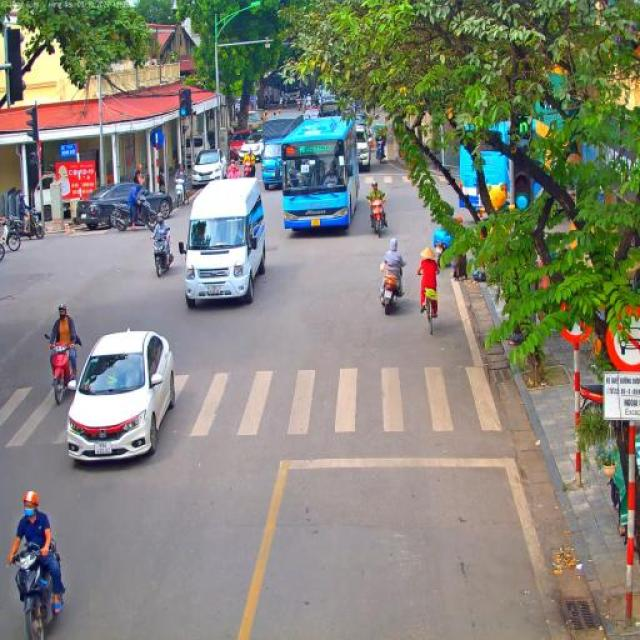bus: (459, 81, 591, 218), (178, 176, 268, 310), (279, 116, 360, 236), (314, 101, 340, 118)
car: (66, 327, 176, 467), (78, 182, 174, 229), (190, 148, 228, 188), (238, 134, 264, 166), (353, 124, 372, 166), (228, 130, 252, 160), (246, 110, 263, 134)
motorcycle: (6, 539, 66, 640), (44, 334, 81, 405), (110, 192, 160, 232), (378, 261, 407, 315), (150, 232, 176, 278), (22, 206, 46, 242), (368, 196, 388, 238), (1, 215, 22, 251), (172, 176, 188, 209), (376, 142, 386, 164), (243, 161, 254, 178), (0, 235, 5, 263)
truck: (261, 112, 304, 190), (33, 172, 65, 222), (364, 115, 386, 151)
